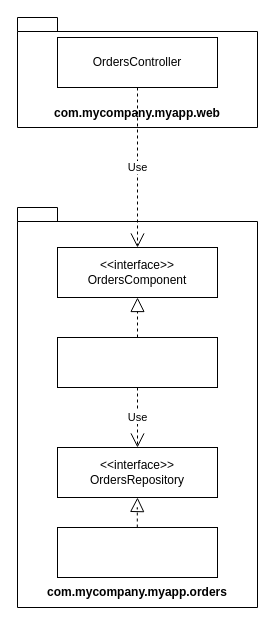
Image size: 275x625. Some labels were removed from this diagram. The centre of each missing label's shape, as x and y in pixels:
"JdbcOrdersRepository" belongs at point 137,552.
"OrdersComponentImpl" belongs at point 137,362.
